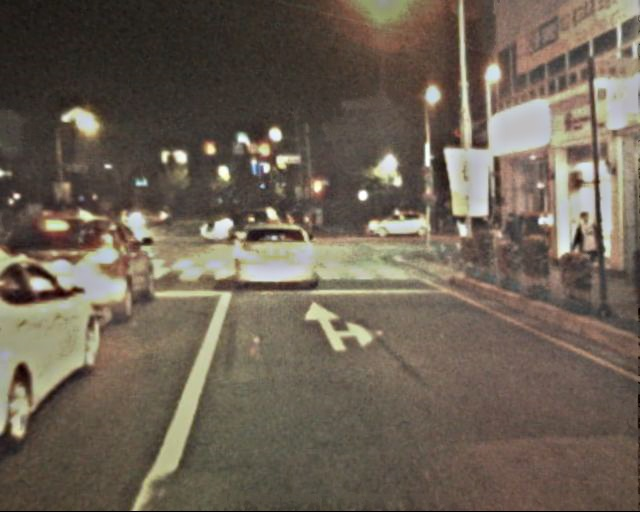person: (573, 212, 597, 281), (501, 209, 525, 268), (455, 214, 475, 260), (308, 206, 343, 226)
